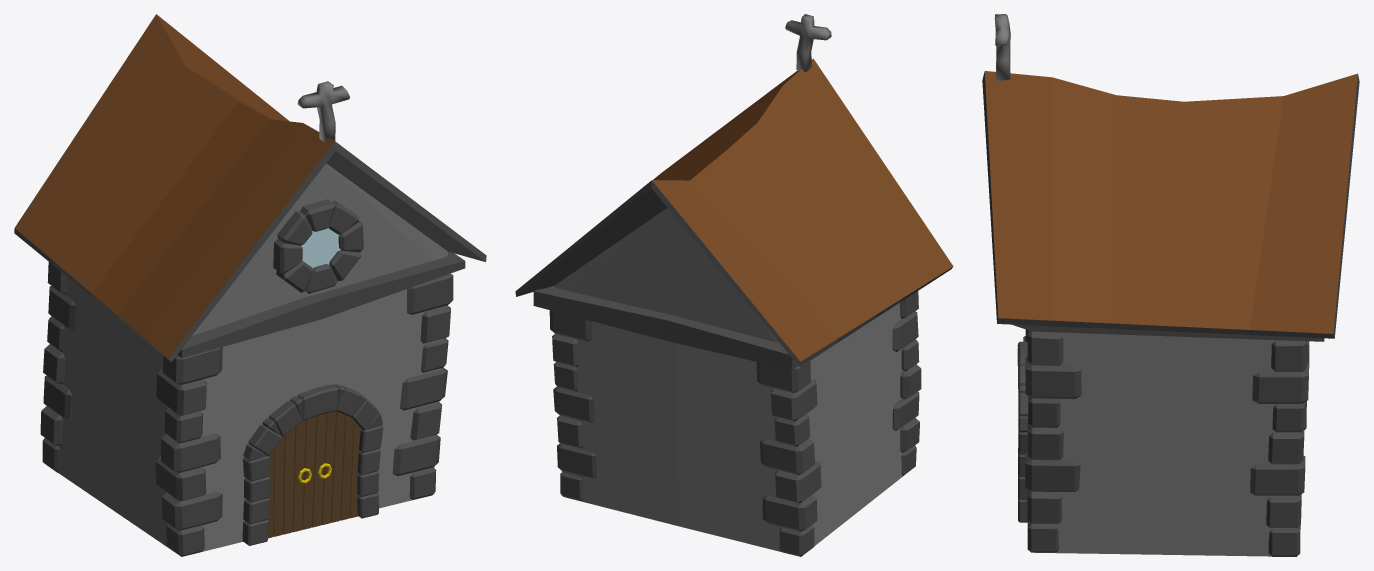
File: Church.fbx
3 views of the same model, side by side, from view 1: azimuth 30°, elevation 25°; view 2: azimuth 150°, elevation 25°; view 3: azimuth 270°, elevation 25° (orthographic). The views are drawn at different scales.
Visible parts, largest first — view 1: Building, Bricks, Doors, Doorframe, Windows, Headstone2Cross, Window; view 2: Building, Bricks, Headstone2Cross; view 3: Building, Bricks, Doorframe, Headstone2Cross.
Boxes of the visible parts, <box> form: Building: <box>14,14,486,555</box>; Bricks: <box>40,262,453,556</box>; Doors: <box>268,411,360,538</box>; Doorframe: <box>242,384,382,545</box>; Windows: <box>273,199,363,293</box>; Headstone2Cross: <box>297,81,349,142</box>; Window: <box>301,227,340,268</box>; Building: <box>515,58,953,551</box>; Bricks: <box>549,291,921,556</box>; Headstone2Cross: <box>785,14,831,72</box>; Building: <box>982,71,1359,556</box>; Bricks: <box>1023,329,1309,556</box>; Doorframe: <box>1017,341,1028,522</box>; Headstone2Cross: <box>994,14,1010,80</box>.
Bounding box in the file's own units: 3090 × 4188 × 3005.
